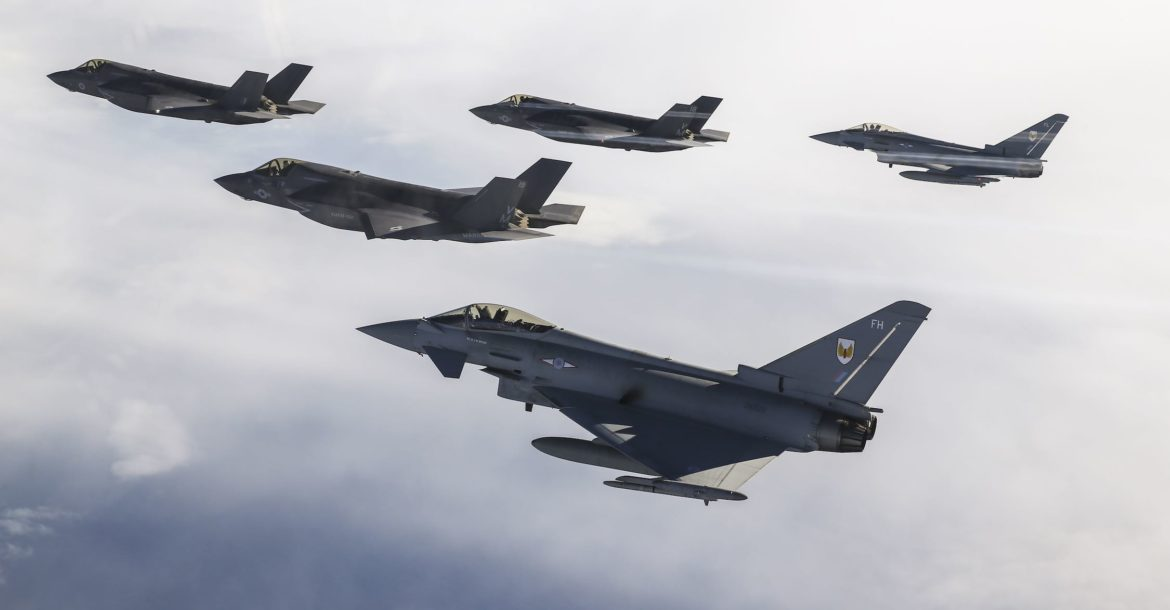Eurofighter_Typhoon: (328, 275, 952, 549), (798, 85, 1073, 206)
F-35 Lightning: (190, 130, 615, 268), (34, 27, 337, 144), (463, 62, 757, 177)
